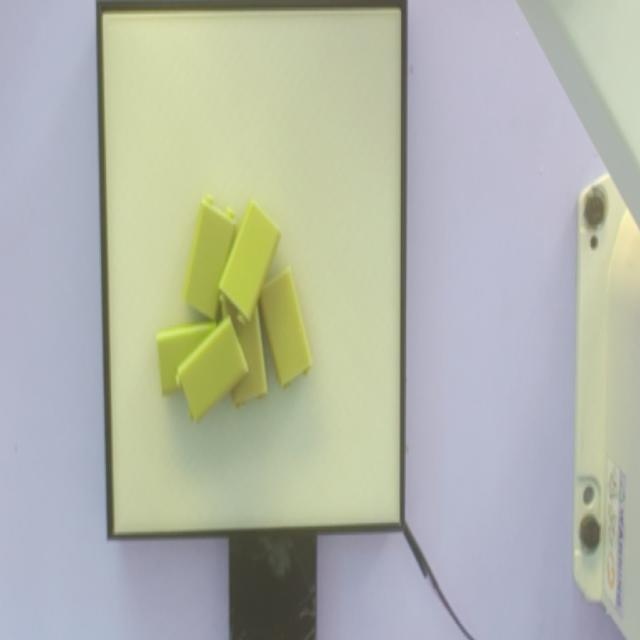bateria: (217, 200, 283, 327), (174, 315, 249, 425)
mesa: (97, 0, 407, 539)
